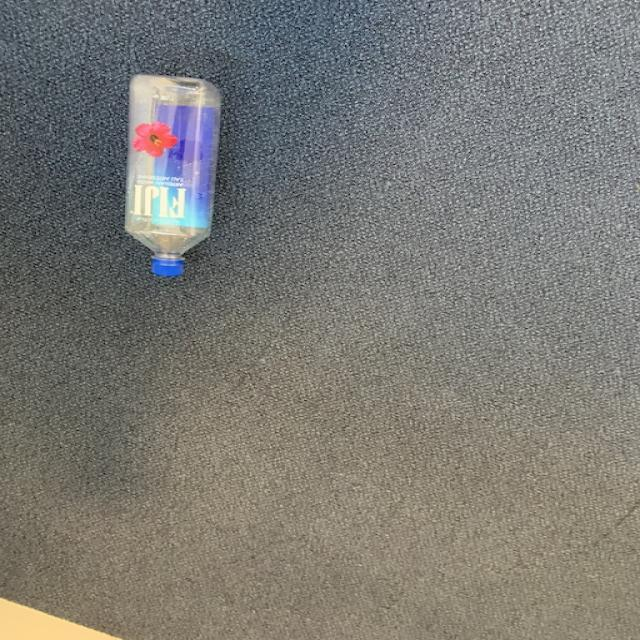Plastic: (125, 74, 220, 275)
